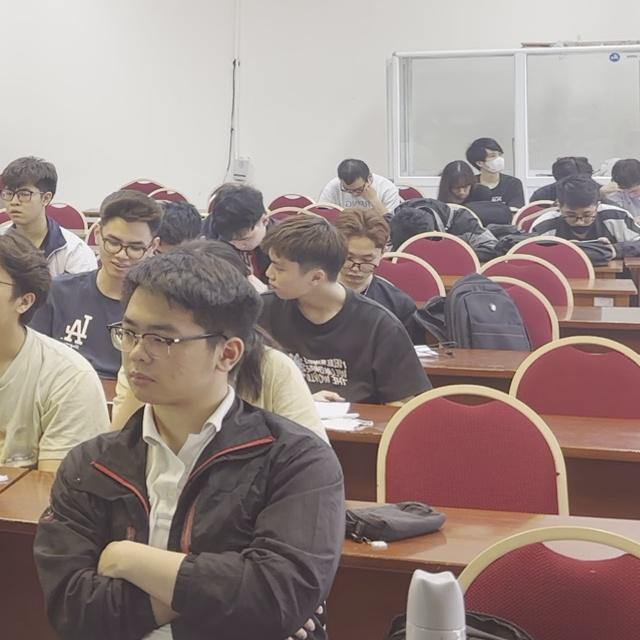Looking away: (97, 219, 153, 277), (264, 248, 313, 303), (339, 237, 383, 294), (211, 220, 271, 252), (559, 199, 599, 231), (474, 149, 508, 176), (336, 176, 374, 198), (450, 179, 473, 201)
Looking forward: (119, 289, 211, 411), (0, 176, 46, 229)
